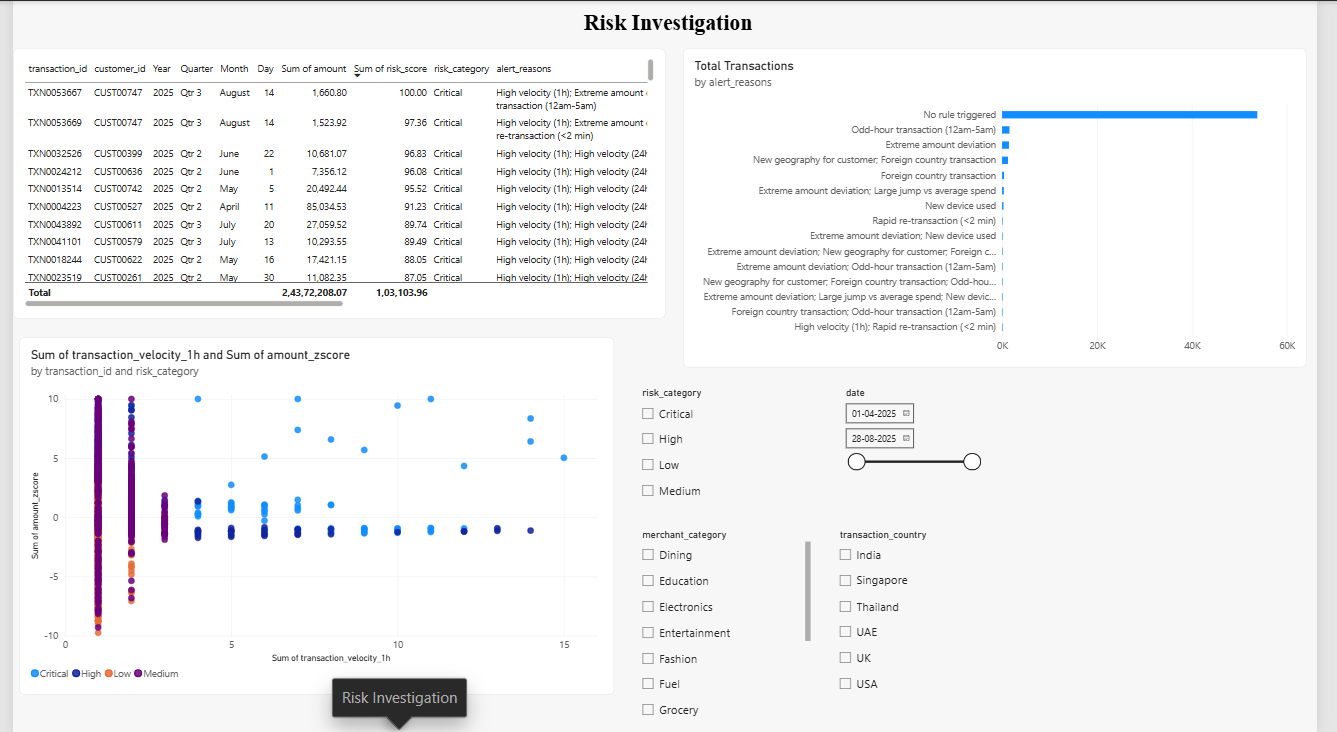

The page's visual inventory and layout, read from the dashboard file:
{"tool":"powerbi","page":{"name":"Risk Investigation","canvas":[1920,1080],"ordinal":1},"visuals":[{"type":"textbox","box":[9.2,12.9,1910.4,40.5],"z":0},{"type":"tableEx","fields":{"Values":["fact_transactions.transaction_id","fact_transactions.customer_id","fact_transactions.timestamp.Variation.Date Hierarchy.Year","fact_transactions.timestamp.Variation.Date Hierarchy.Quarter","fact_transactions.timestamp.Variation.Date Hierarchy.Month","fact_transactions.timestamp.Variation.Date Hierarchy.Day","Sum(fact_transactions.amount)","Sum(fact_transactions.risk_score)","fact_transactions.risk_category","fact_transactions.alert_reasons","fact_transactions.channel","fact_transactions.transaction_city"]},"box":[0,69.9,960.7,397.5],"z":1000},{"type":"clusteredBarChart","fields":{"Category":["fact_transactions.alert_reasons"],"Y":["_Measures.Total Transactions"]},"box":[986.5,69.9,918.4,469.3],"z":2000},{"type":"scatterChart","fields":{"Category":["fact_transactions.transaction_id"],"Series":["fact_transactions.risk_category"],"X":["Sum(fact_transactions.transaction_velocity_1h)"],"Y":["Sum(fact_transactions.amount_zscore)"]},"box":[9.2,495.1,876.1,526.4],"z":3000},{"type":"slicer","fields":{"Values":["fact_transactions.merchant_category"]},"box":[918.4,776.7,255.8,277.9],"z":4000},{"type":"slicer","fields":{"Values":["fact_transactions.risk_category"]},"box":[918.4,568.7,255.8,189.6],"z":5000},{"type":"slicer","fields":{"Values":["dim_date.date"]},"box":[1218.4,568.7,209.8,165.6],"z":6000},{"type":"slicer","fields":{"Values":["fact_transactions.transaction_country"]},"box":[1209.2,776.7,228.2,290.8],"z":7000}]}

Visuals, with their boxes in screenshot pixels (x1, y1, x2, y2), scaled from the page's 1920x1080 canvas onto the 1337x732 screenshot:
textbox: x1=6 y1=9 x2=1336 y2=36
tableEx - fact_transactions.transaction_id x fact_transactions.customer_id: x1=0 y1=47 x2=669 y2=317
clusteredBarChart - fact_transactions.alert_reasons x _Measures.Total Transactions: x1=687 y1=47 x2=1326 y2=365
scatterChart - fact_transactions.transaction_id x fact_transactions.risk_category: x1=6 y1=336 x2=616 y2=692
slicer - fact_transactions.merchant_category: x1=640 y1=526 x2=818 y2=715
slicer - fact_transactions.risk_category: x1=640 y1=385 x2=818 y2=514
slicer - dim_date.date: x1=848 y1=385 x2=995 y2=498
slicer - fact_transactions.transaction_country: x1=842 y1=526 x2=1001 y2=724
